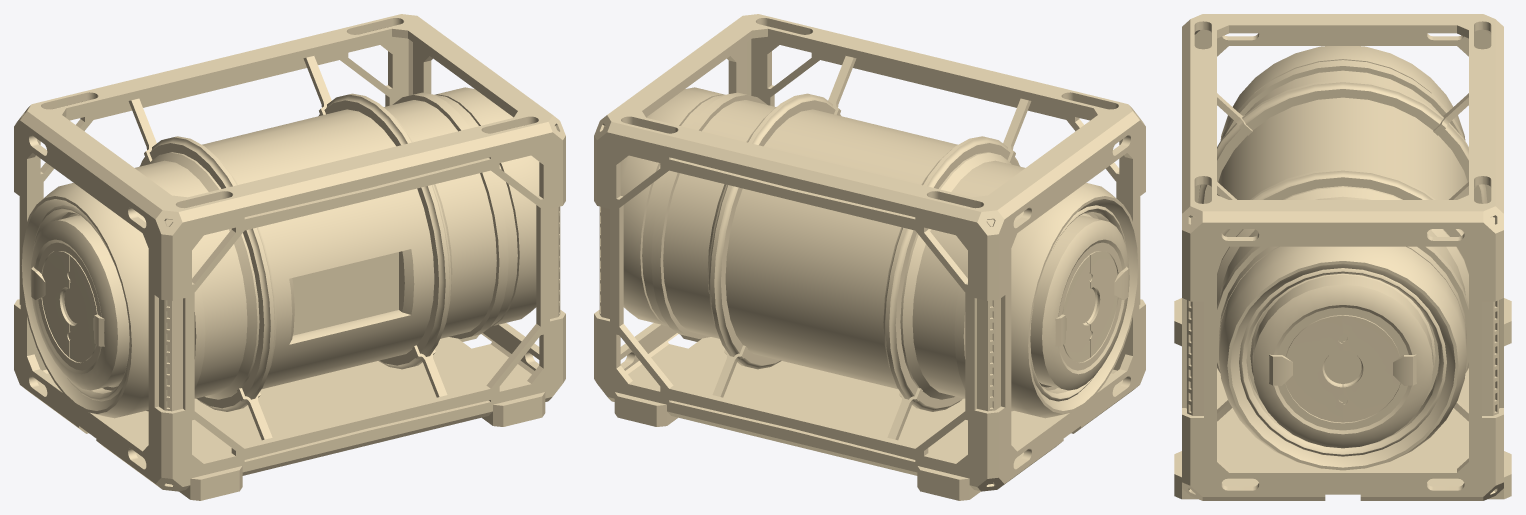
The model's file is cargo_box7.fbx.
The picture shows the model from 3 angles, left to right: view 1: azimuth 30°, elevation 25°; view 2: azimuth 150°, elevation 25°; view 3: azimuth 270°, elevation 25°; orthographic projection. The views are drawn at different scales.
Visible parts, largest first — view 1: Cube.025, Cylinder.009, Cylinder.011, Cube.012_Piece.005, Cube.012_Piece.006, Cube.012_Piece.001_Piece.005, Cube.012_Piece.001_Piece.006; view 2: Cube.025, Cylinder.009, Cylinder.011, Cube.012_Piece.005, Cube.012_Piece.006, Cube.012_Piece.001_Piece.005, Cube.012_Piece.001_Piece.006; view 3: Cube.025, Cylinder.009, Cylinder.011, Cube.012_Piece.005, Cube.012_Piece.006, Cube.012_Piece.001_Piece.005, Cube.012_Piece.001_Piece.006.
Boxes of the visible parts, x1,y1,x2,y2 form: Cube.025: [14, 14, 565, 500]; Cylinder.009: [20, 87, 539, 418]; Cylinder.011: [31, 242, 104, 370]; Cube.012_Piece.005: [139, 136, 276, 411]; Cube.012_Piece.006: [318, 93, 451, 369]; Cube.012_Piece.001_Piece.005: [128, 98, 272, 440]; Cube.012_Piece.001_Piece.006: [303, 56, 447, 397]; Cube.025: [594, 14, 1145, 500]; Cylinder.009: [620, 87, 1139, 418]; Cylinder.011: [1055, 242, 1128, 370]; Cube.012_Piece.005: [883, 136, 1020, 411]; Cube.012_Piece.006: [708, 93, 841, 369]; Cube.012_Piece.001_Piece.005: [887, 98, 1031, 440]; Cube.012_Piece.001_Piece.006: [712, 56, 856, 397]; Cube.025: [1174, 14, 1511, 500]; Cylinder.009: [1217, 46, 1468, 470]; Cylinder.011: [1269, 307, 1416, 430]; Cube.012_Piece.005: [1198, 80, 1487, 203]; Cube.012_Piece.006: [1217, 168, 1468, 373]; Cube.012_Piece.001_Piece.005: [1217, 93, 1468, 135]; Cube.012_Piece.001_Piece.006: [1208, 182, 1477, 421].
Bounding box in the file's own units: 89.33 × 54.35 × 55.99.
